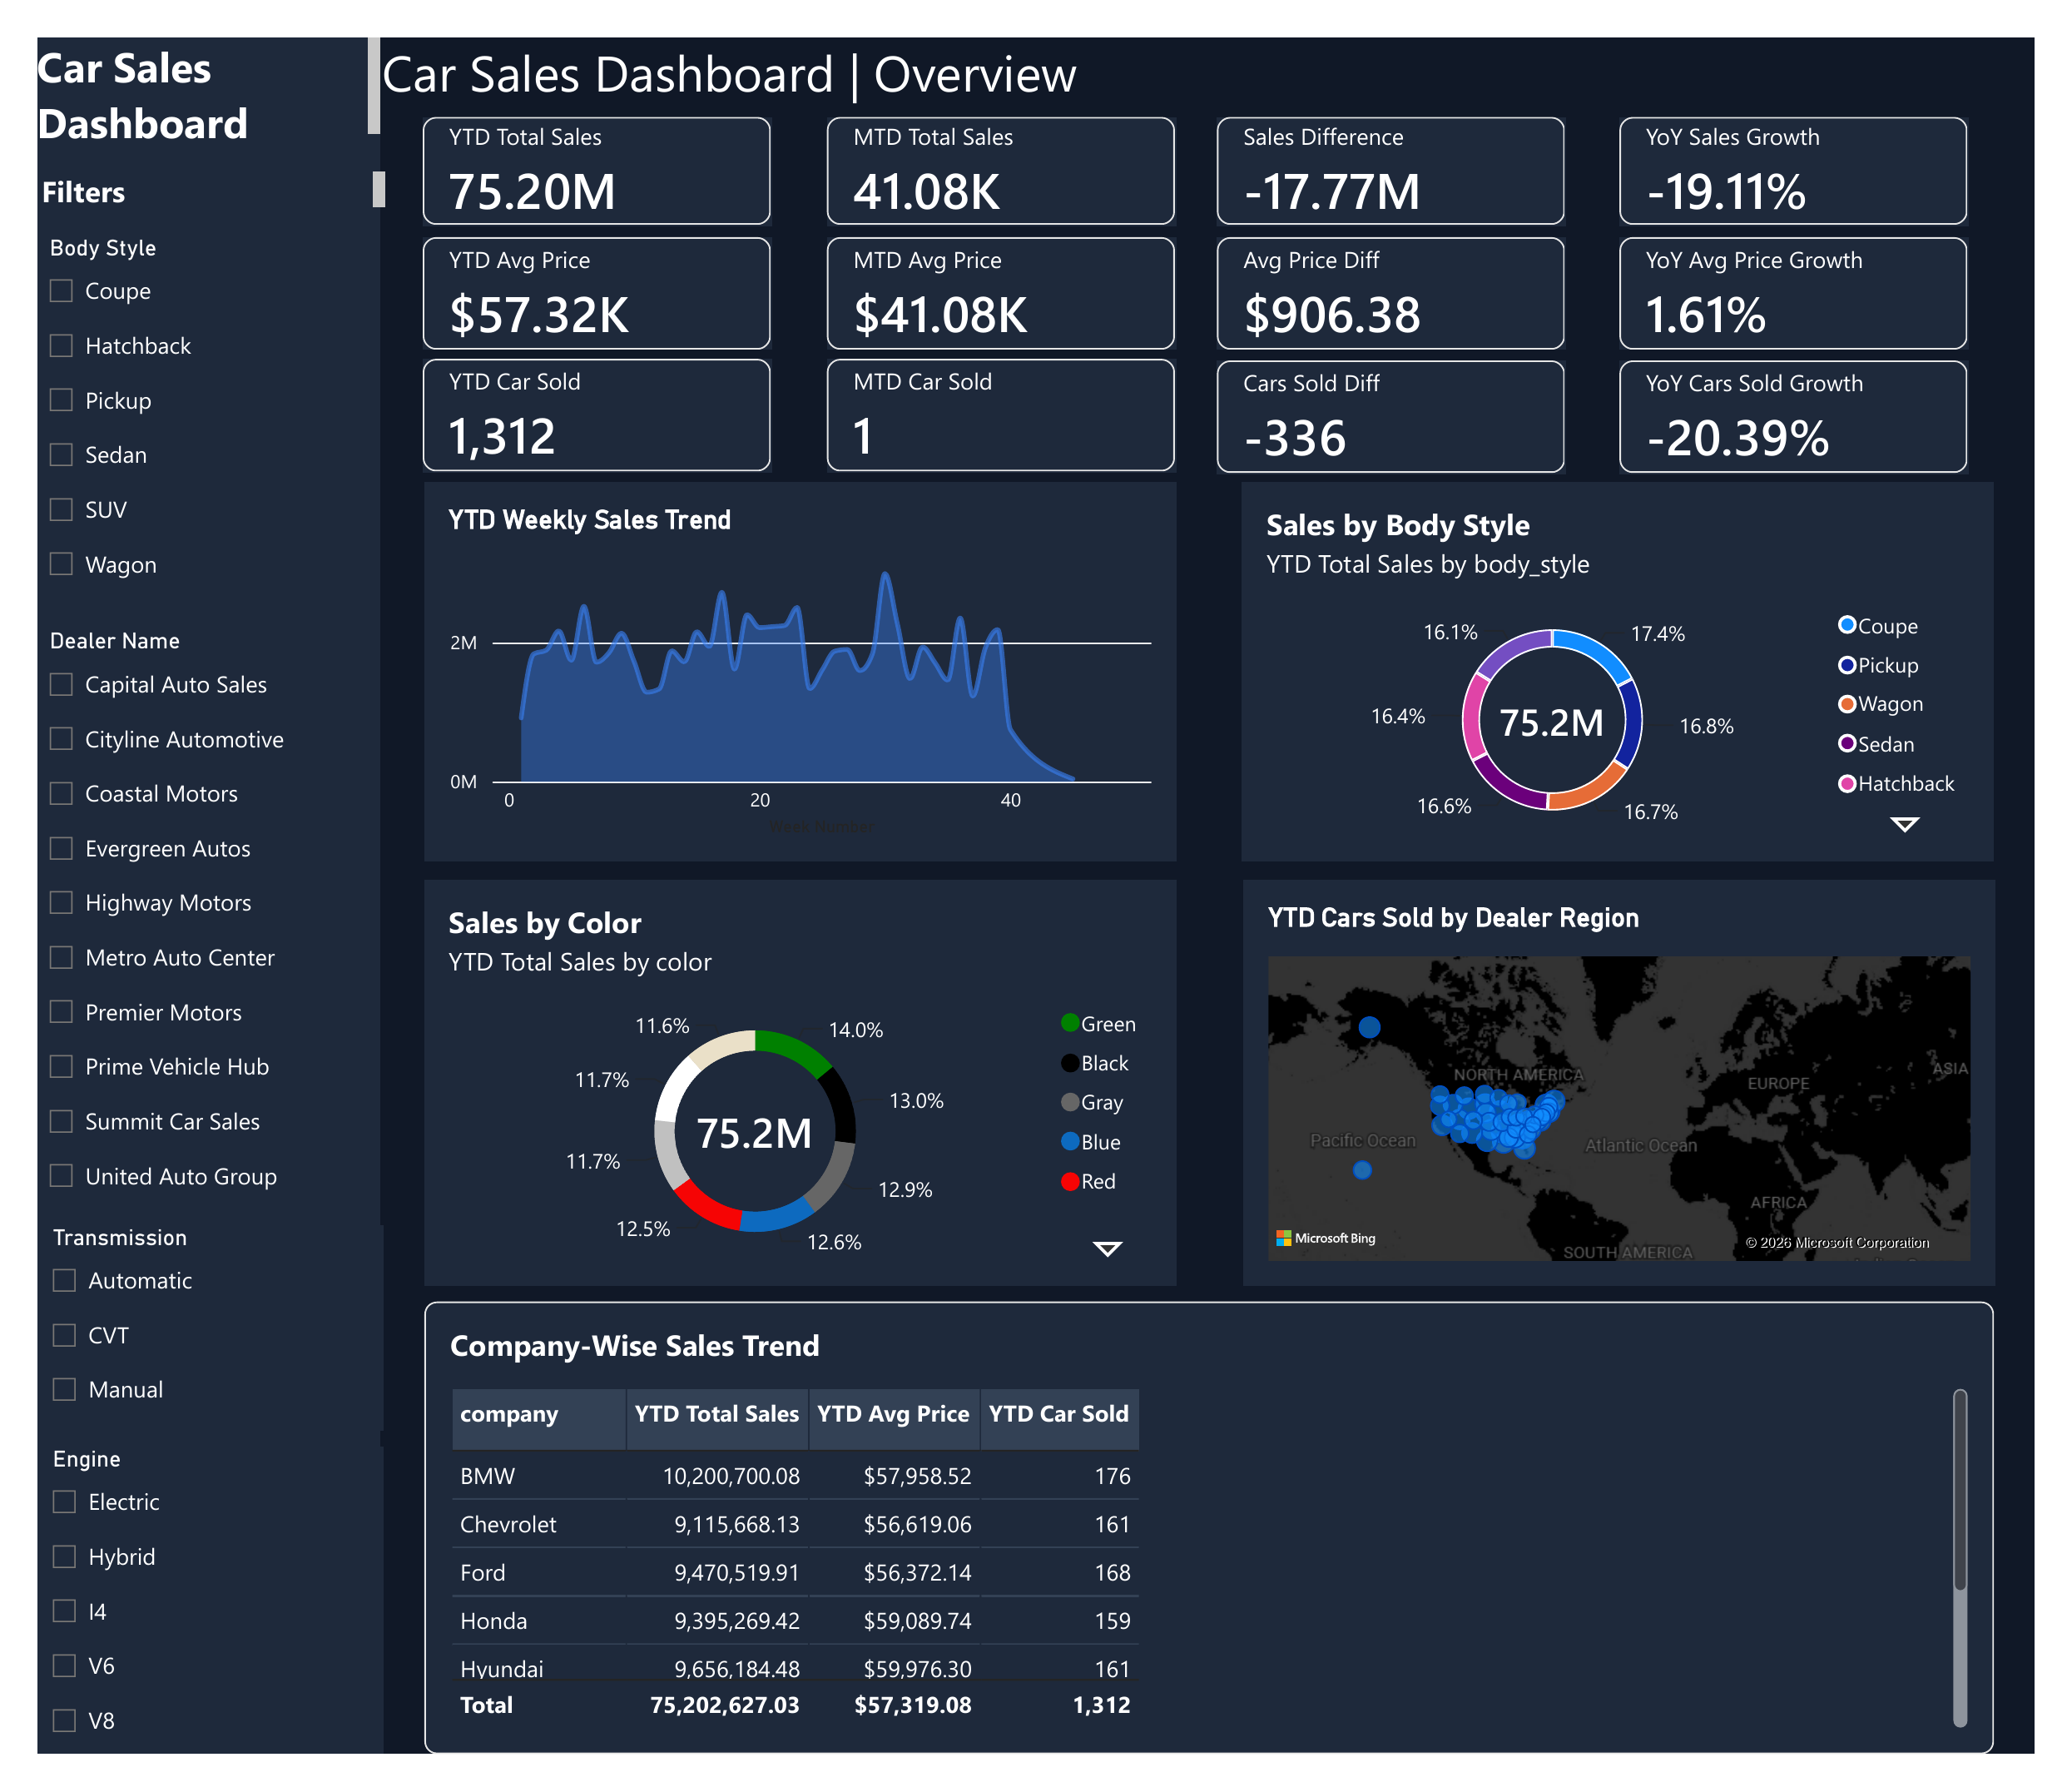

This screenshot's page, from the dashboard's own definition file:
{"tool":"powerbi","page":{"name":"Page 1","canvas":[1280,1100],"ordinal":0},"visuals":[{"type":"shape","box":[0,0,220,1100],"z":0},{"type":"textbox","box":[0,0,219.6,67.2],"z":1},{"type":"textbox","box":[3.2,85.7,219.6,24.7],"z":2},{"type":"slicer","fields":{"Values":["car_sales_5000.body_style"]},"box":[0,127,220,240],"z":3},{"type":"slicer","fields":{"Values":["car_sales_5000.dealer_name"]},"box":[0,379.5,220,370],"z":4},{"type":"slicer","fields":{"Values":["car_sales_5000.transmission"]},"box":[1.6,760.5,220,132],"z":5},{"type":"slicer","fields":{"Values":["car_sales_5000.engine"]},"box":[1.6,903.4,220.7,196.9],"z":6},{"type":"textbox","box":[220.9,0,454.2,50.8],"z":7},{"type":"cardVisual","fields":{"Data":["car_sales_5000.YTD Total Sales"]},"box":[247,50.8,223.7,70],"z":8},{"type":"cardVisual","fields":{"Data":["car_sales_5000.MTD Total Sales"]},"box":[506.3,50.8,223.7,70],"z":9},{"type":"cardVisual","fields":{"Data":["car_sales_5000.Sales Difference"]},"box":[756.1,50.8,223.7,70],"z":10},{"type":"cardVisual","fields":{"Data":["car_sales_5000.YoY Sales Growth"]},"box":[1014.1,50.8,223.7,70],"z":11},{"type":"cardVisual","fields":{"Data":["car_sales_5000.YTD Avg Price"]},"box":[247,127.6,223.7,72.7],"z":12},{"type":"cardVisual","fields":{"Data":["car_sales_5000.MTD Avg Price"]},"box":[506.3,127.6,223.7,72.7],"z":13},{"type":"cardVisual","fields":{"Data":["car_sales_5000.Avg Price Diff"]},"box":[756.1,127.6,223.7,72.7],"z":14},{"type":"cardVisual","fields":{"Data":["car_sales_5000.YoY Avg Price Growth"]},"box":[1014.1,127.6,223.7,72.7],"z":15},{"type":"cardVisual","fields":{"Data":["car_sales_5000.YTD Car Sold"]},"box":[247,205.8,223.7,72.7],"z":16},{"type":"cardVisual","fields":{"Data":["car_sales_5000.MTD Car Sold"]},"box":[506.3,205.8,223.7,72.7],"z":17},{"type":"cardVisual","fields":{"Data":["car_sales_5000.Cars Sold Diff"]},"box":[756.1,207.2,223.7,72.7],"z":18},{"type":"cardVisual","fields":{"Data":["car_sales_5000.YoY Cars Sold Growth"]},"box":[1014.1,207.2,223.7,72.7],"z":19},{"type":"areaChart","title":"YTD Weekly Sales Trend","fields":{"Category":["car_sales_5000.Week Number"],"Y":["car_sales_5000.YTD Total Sales"]},"box":[247.5,285,482.5,242.5],"z":20},{"type":"donutChart","title":"Sales by Body Style","fields":{"Category":["car_sales_5000.body_style"],"Y":["car_sales_5000.YTD Total Sales"]},"box":[772.1,285.3,482.4,242.6],"z":21},{"type":"donutChart","title":"Sales by Color","fields":{"Category":["car_sales_5000.color"],"Y":["car_sales_5000.YTD Total Sales"]},"box":[247.5,540,482.5,260],"z":22},{"type":"map","title":"YTD Cars Sold by Dealer Region","fields":{"Category":["car_sales_5000.Map Location"],"Size":["car_sales_5000.YTD Car Sold"]},"box":[772.5,540,482.5,260],"z":23},{"type":"tableEx","title":"Company-Wise Sales Trend","fields":{"Values":["car_sales_5000.company","car_sales_5000.YTD Total Sales","car_sales_5000.YTD Avg Price","car_sales_5000.YTD Car Sold"]},"box":[247.7,809.8,1006.6,290.6],"z":24}]}

Visuals, with their boxes in screenshot pixels (x1, y1, x2, y2), scaled from the page's 1280x1100 canvas onto the 2072x1792 screenshot:
shape: <region>0, 0, 356, 1791</region>
textbox: <region>0, 0, 355, 110</region>
textbox: <region>5, 140, 360, 180</region>
slicer - car_sales_5000.body_style: <region>0, 207, 356, 598</region>
slicer - car_sales_5000.dealer_name: <region>0, 618, 356, 1221</region>
slicer - car_sales_5000.transmission: <region>2, 1239, 359, 1454</region>
slicer - car_sales_5000.engine: <region>2, 1472, 359, 1791</region>
textbox: <region>358, 0, 1093, 82</region>
cardVisual - car_sales_5000.YTD Total Sales: <region>399, 82, 762, 196</region>
cardVisual - car_sales_5000.MTD Total Sales: <region>820, 82, 1182, 196</region>
cardVisual - car_sales_5000.Sales Difference: <region>1224, 82, 1586, 196</region>
cardVisual - car_sales_5000.YoY Sales Growth: <region>1642, 82, 2004, 196</region>
cardVisual - car_sales_5000.YTD Avg Price: <region>399, 208, 762, 326</region>
cardVisual - car_sales_5000.MTD Avg Price: <region>820, 208, 1182, 326</region>
cardVisual - car_sales_5000.Avg Price Diff: <region>1224, 208, 1586, 326</region>
cardVisual - car_sales_5000.YoY Avg Price Growth: <region>1642, 208, 2004, 326</region>
cardVisual - car_sales_5000.YTD Car Sold: <region>399, 335, 762, 454</region>
cardVisual - car_sales_5000.MTD Car Sold: <region>820, 335, 1182, 454</region>
cardVisual - car_sales_5000.Cars Sold Diff: <region>1224, 338, 1586, 456</region>
cardVisual - car_sales_5000.YoY Cars Sold Growth: <region>1642, 338, 2004, 456</region>
"YTD Weekly Sales Trend" areaChart: <region>400, 464, 1182, 859</region>
"Sales by Body Style" donutChart: <region>1250, 464, 2030, 860</region>
"Sales by Color" donutChart: <region>400, 880, 1182, 1303</region>
"YTD Cars Sold by Dealer Region" map: <region>1251, 880, 2031, 1303</region>
"Company-Wise Sales Trend" tableEx: <region>401, 1319, 2030, 1791</region>
